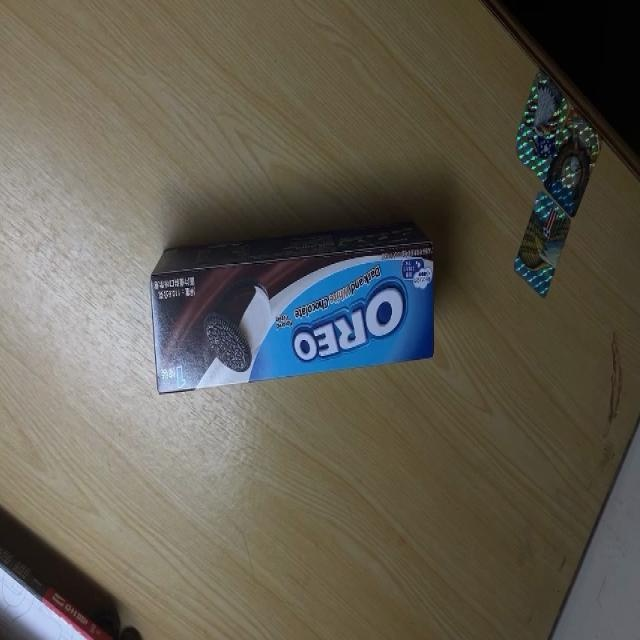Oreo: (148, 218, 438, 394)
